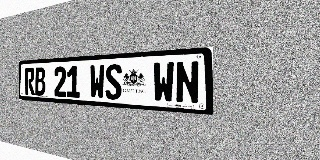1: (66, 66, 80, 98)
2: (54, 66, 66, 97)
B: (35, 67, 45, 96)
N: (175, 60, 199, 105)
R: (25, 68, 35, 95)
S: (105, 64, 122, 100)
W: (153, 61, 174, 103), (90, 65, 105, 99)
